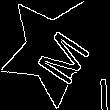M_NW: (21, 17, 87, 83)
